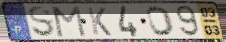4: (118, 4, 140, 38)
9: (174, 5, 201, 38)
K: (86, 6, 114, 37)
M: (51, 5, 88, 38)
O: (146, 5, 176, 37)
S: (27, 5, 57, 39)
